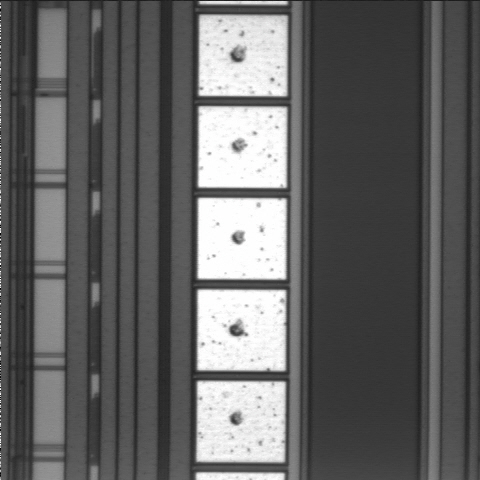pad: (198, 106, 287, 188), (198, 198, 286, 280), (197, 290, 286, 371), (199, 15, 287, 96), (197, 381, 285, 462)
